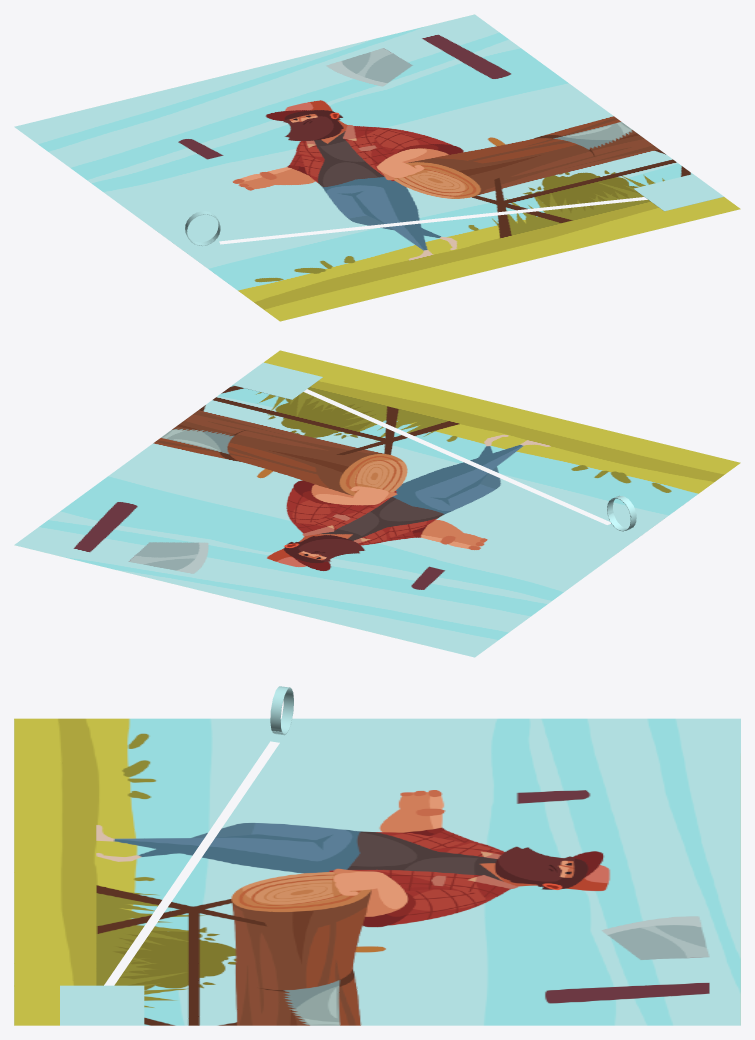
3 renders of one model, top to bottom at view 1: azimuth 30°, elevation 25°; view 2: azimuth 150°, elevation 25°; view 3: azimuth 270°, elevation 25°, orthographic. The views are drawn at different scales.
Visible parts, largest first — view 1: Mesh, blend1; view 2: Mesh, blend1; view 3: Mesh, blend1, blend.
Part boxes in pixels (x1=…): Mesh: x1=14, y1=14, x2=740, y2=321; blend1: x1=633, y1=174, x2=723, y2=211; Mesh: x1=14, y1=350, x2=740, y2=657; blend1: x1=232, y1=362, x2=322, y2=399; Mesh: x1=14, y1=718, x2=740, y2=1025; blend1: x1=60, y1=985, x2=144, y2=1025; blend: x1=270, y1=686, x2=293, y2=735.
Size of the model in its own units: 2400 by 159 by 2400.
